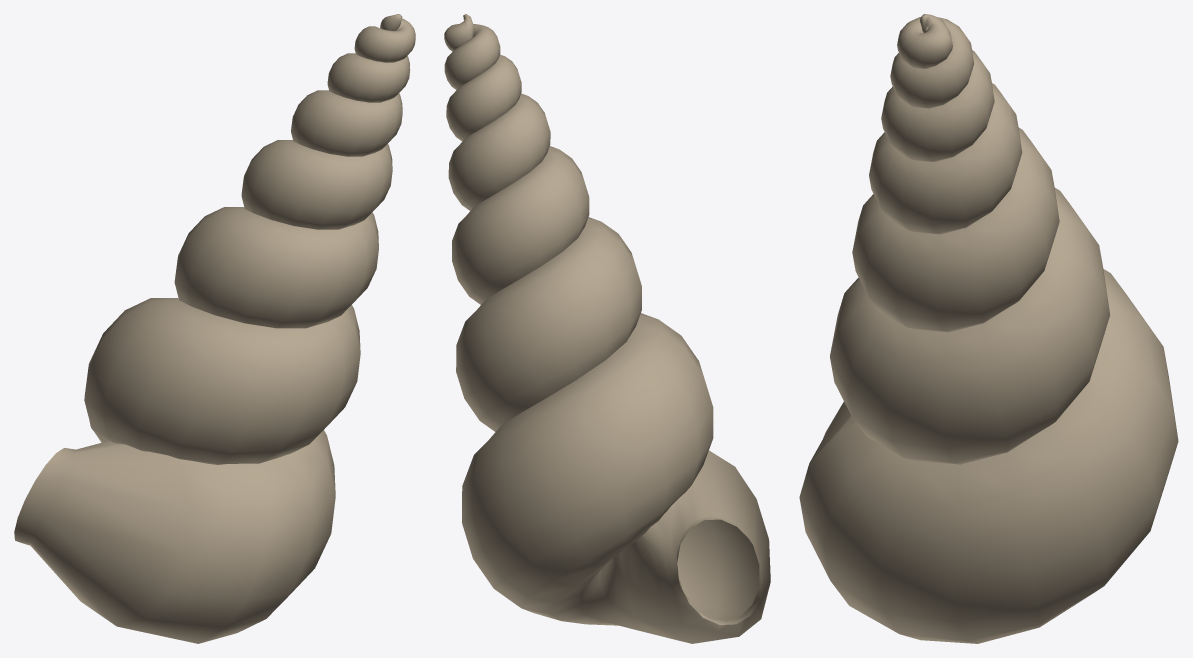
The model's file is shell.fbx.
3 views of the same model, side by side, from view 1: azimuth 30°, elevation 25°; view 2: azimuth 150°, elevation 25°; view 3: azimuth 270°, elevation 25° (orthographic). The views are drawn at different scales.
Visible parts, largest first — view 1: Circle; view 2: Circle; view 3: Circle.
Boxes of the visible parts, box(x1,y1,x2,y2) form: Circle: box(14, 14, 415, 643); Circle: box(444, 14, 770, 643); Circle: box(799, 14, 1178, 643).
Bounding box in the file's own units: 145 × 220 × 105.
